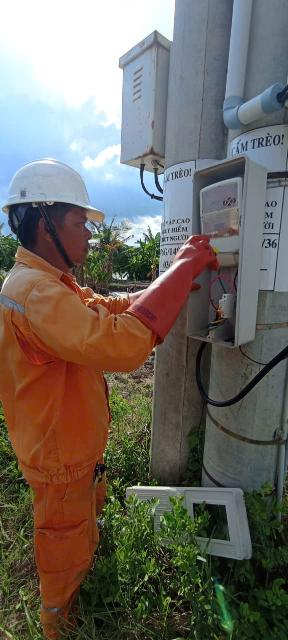gloves: (123, 223, 228, 331)
helmet: (0, 142, 103, 227)
